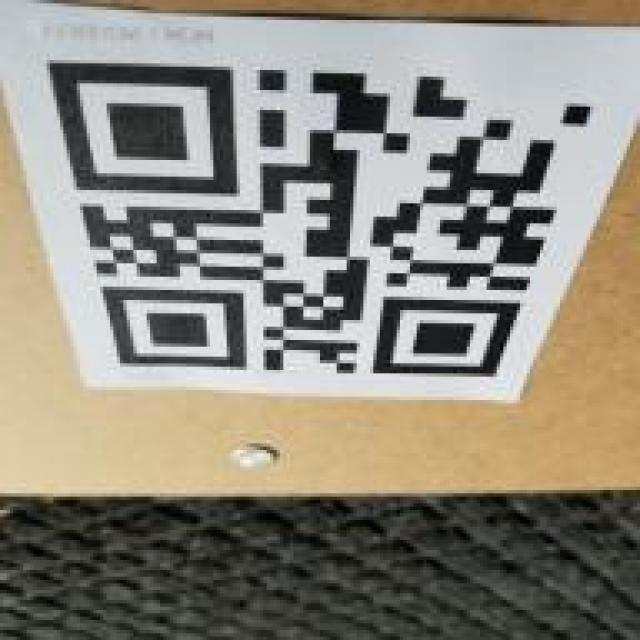qr_code: (47, 62, 590, 376)
